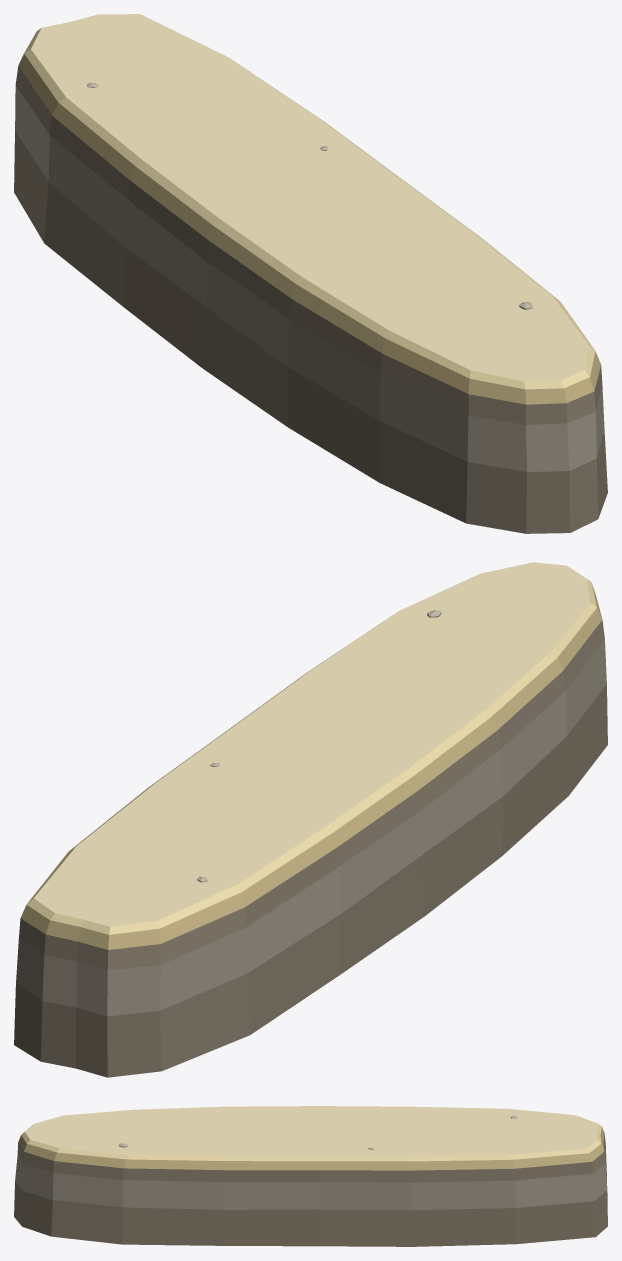
The model's file is river-bank.glb.
3 renders of one model, top to bottom at view 1: azimuth 30°, elevation 25°; view 2: azimuth 150°, elevation 25°; view 3: azimuth 270°, elevation 25°, orthographic. The views are drawn at different scales.
Parts seen in each view (by area): view 1: river-bank; view 2: river-bank; view 3: river-bank.
Part boxes in pixels (x1,y1,x2,y2): river-bank: (14, 14, 607, 533); river-bank: (14, 562, 607, 1077); river-bank: (14, 1106, 607, 1246).
Size of the model in its own units: 29.07 by 19.43 by 120.
